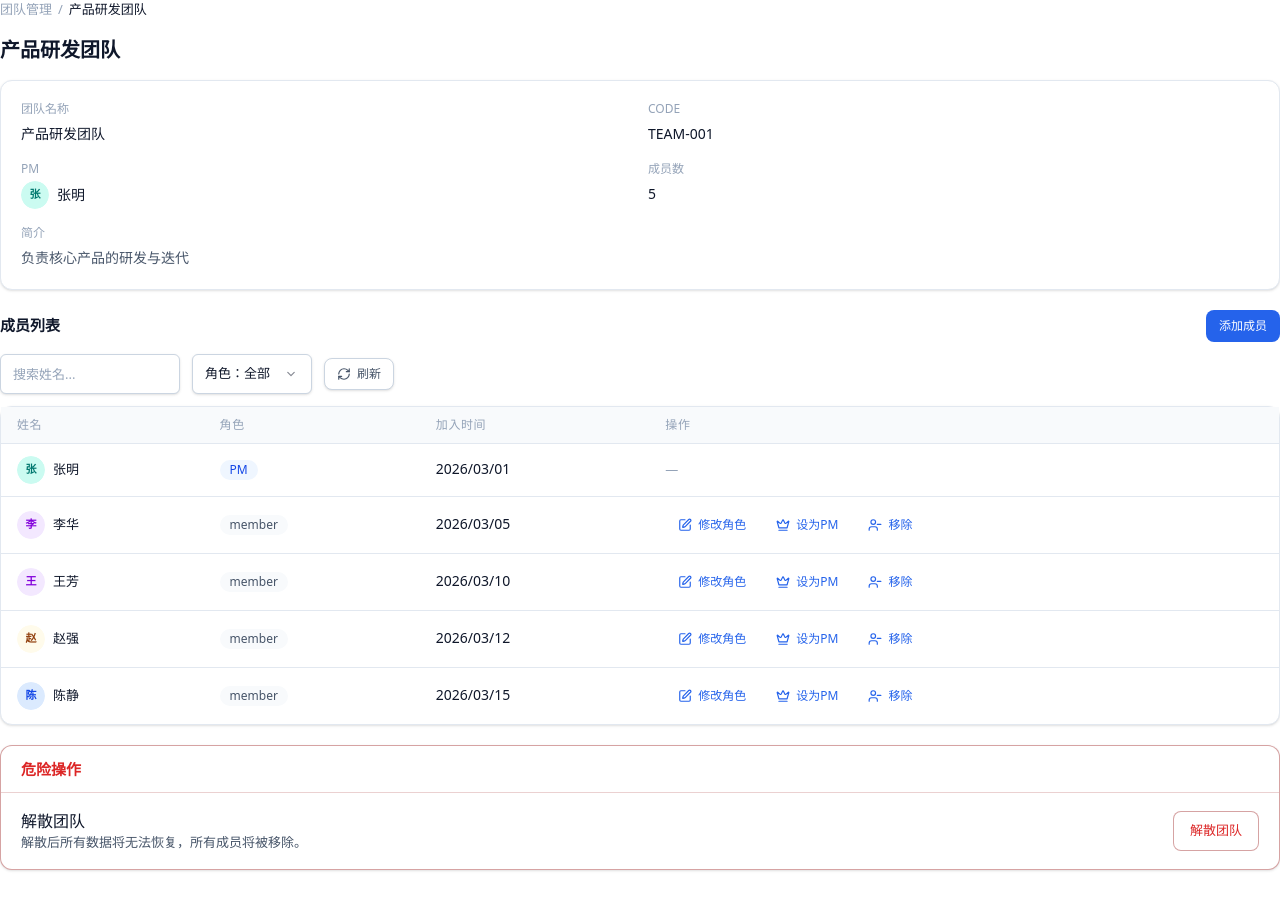
Scenario: TeamDetailPage › disband dialog requires exact team name match
Check: the heading "危险操作" is shown, box [21,758,81,778]
// Click disband button in danger zone
Click the button "解散团队" at (1216, 831), box [1173,811,1259,851]
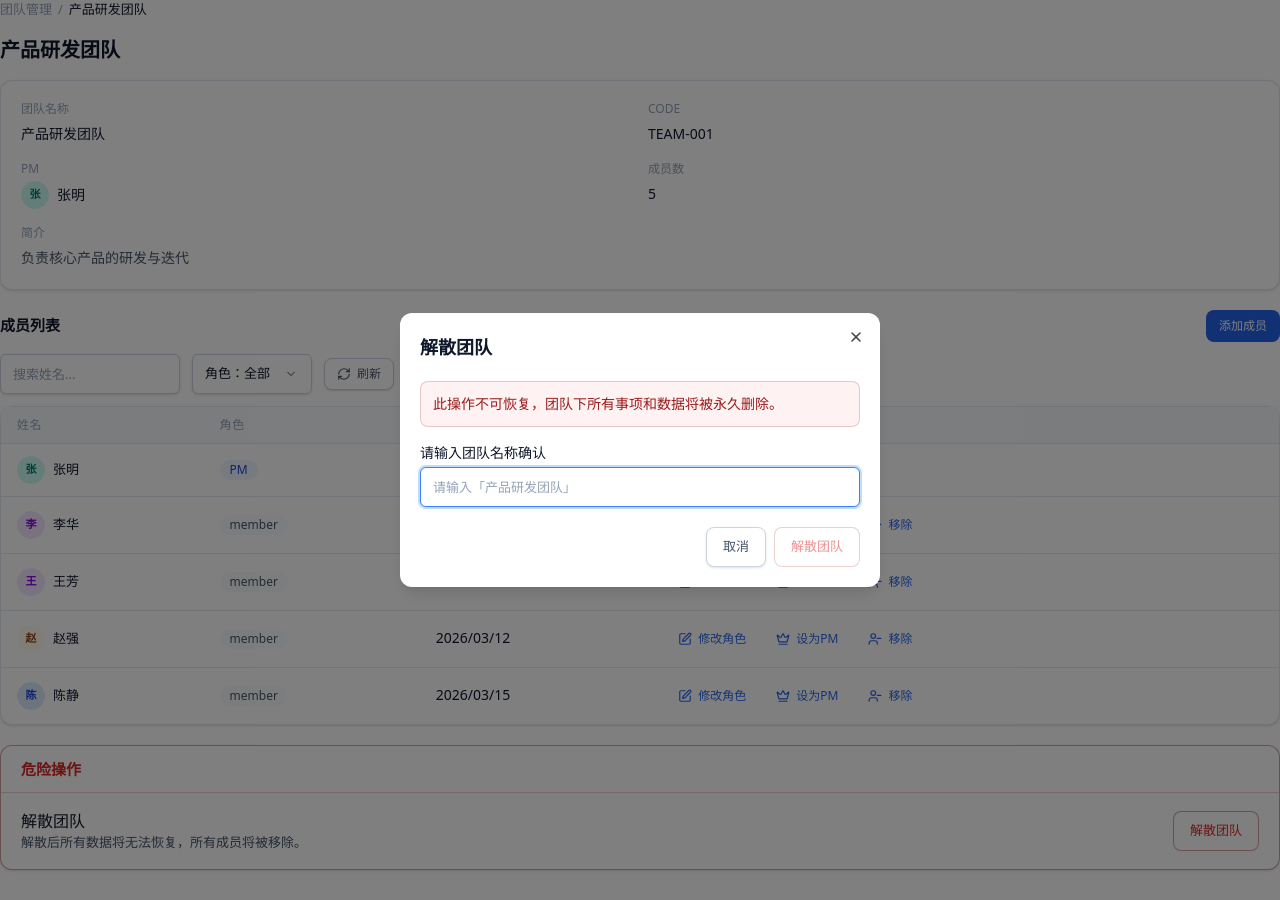
Check: the text "此操作不可恢复，团队下所有事项和数据将被永久删除。" is shown, box [420,381,860,427]
Check: the button "解散团队" is disabled, box [774,527,860,567]
// Type wrong name
Type "错误名称" into the field with placeholder "请输入「产品研发团队」" at (640, 487), box [420,467,860,507]
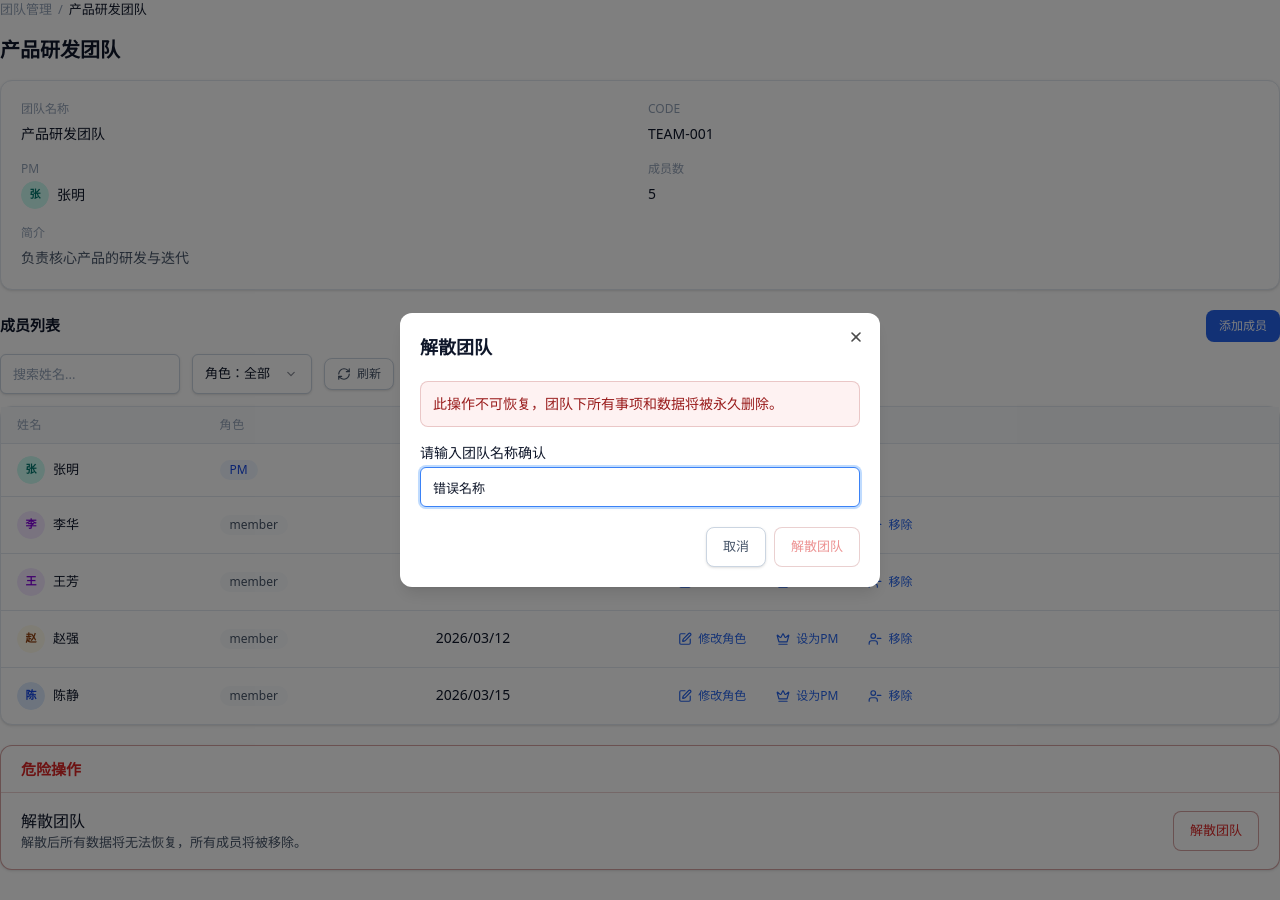
Check: the button "解散团队" is disabled, box [774,527,860,567]
// Clear and type correct name
Replace the text in the field with placeholder "请输入「产品研发团队」" with "产品研发团队" at (640, 487), box [420,467,860,507]
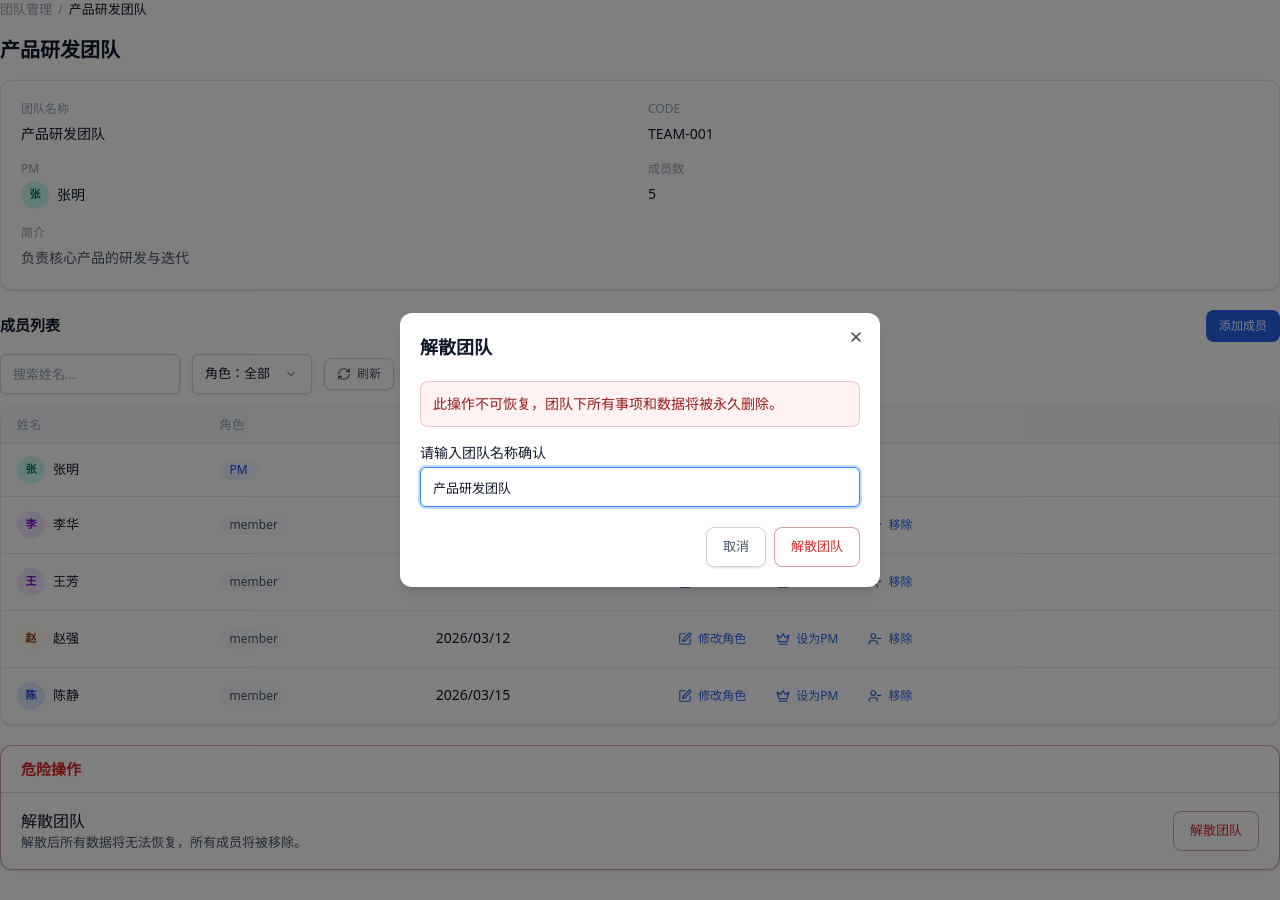
Check: the button "解散团队" is enabled, box [774,527,860,567]
